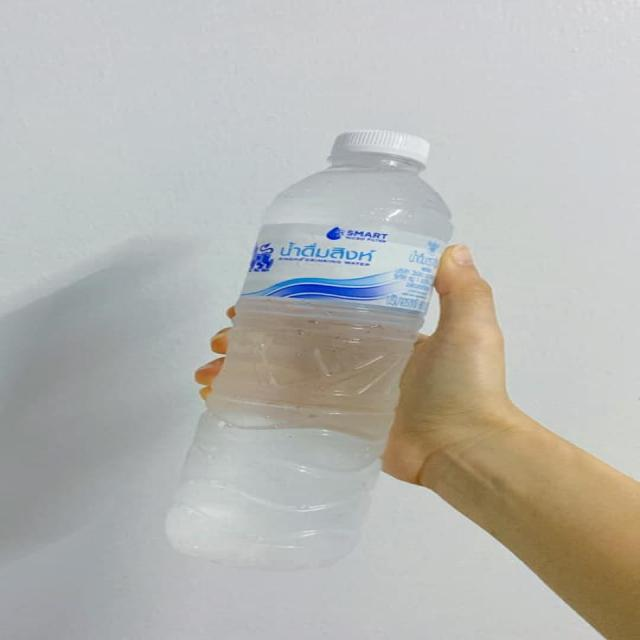bottle: (162, 126, 460, 587)
